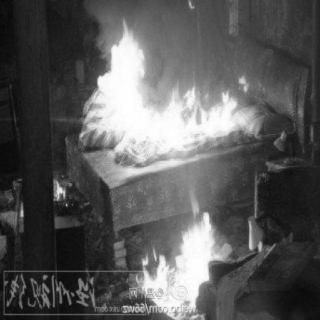Fire: (80, 27, 258, 160), (137, 190, 227, 316)
